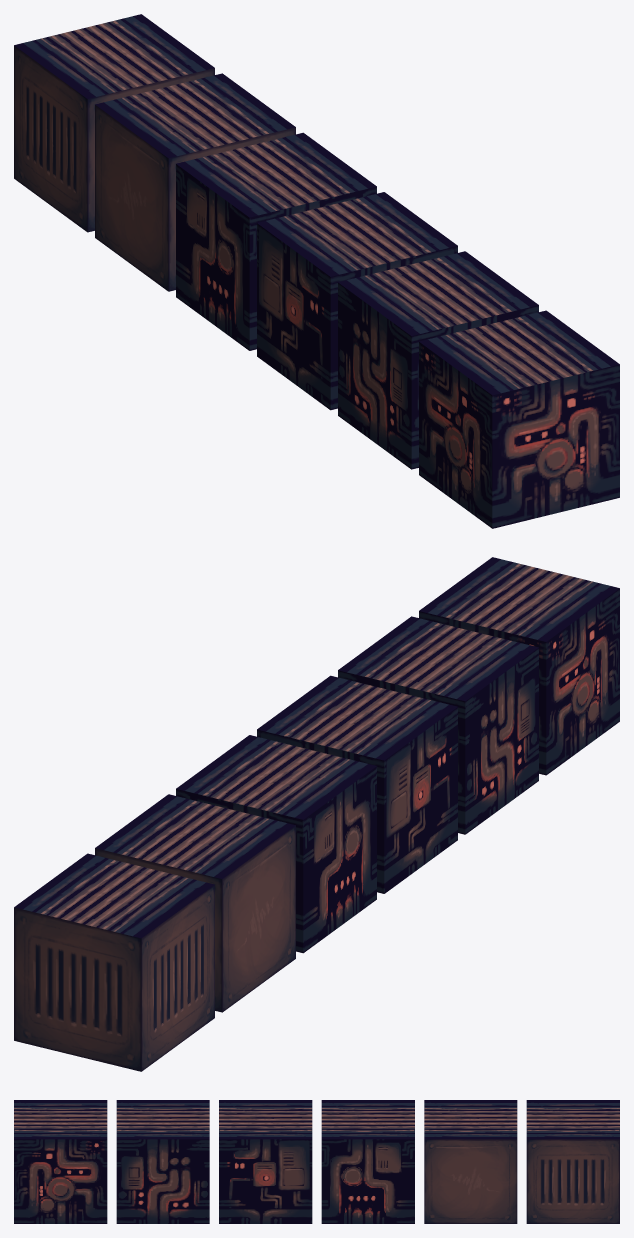
File: DCGJ_2024_Terrain.fbx
The picture shows the model from 3 angles, top to bottom: view 1: azimuth 30°, elevation 25°; view 2: azimuth 150°, elevation 25°; view 3: azimuth 270°, elevation 25°; orthographic projection. The views are drawn at different scales.
Visible parts, largest first — view 1: WireCube1, WireCube2, PanelCube, WireCube4, VentCube, WireCube3; view 2: VentCube, PanelCube, WireCube1, WireCube3, WireCube2, WireCube4; view 3: WireCube1, WireCube3, PanelCube, WireCube2, WireCube4, VentCube.
Boxes of the visible parts, box(x1,y1,x2,y2) form: WireCube1: box(419, 310, 619, 528); WireCube2: box(338, 251, 538, 469); PanelCube: box(95, 73, 295, 291); WireCube4: box(176, 132, 376, 350); VentCube: box(14, 14, 214, 232); WireCube3: box(257, 192, 457, 410); VentCube: box(14, 853, 214, 1071); PanelCube: box(95, 794, 295, 1012); WireCube1: box(419, 557, 619, 775); WireCube3: box(257, 675, 457, 893); WireCube2: box(338, 616, 538, 834); WireCube4: box(176, 735, 376, 953); WireCube1: box(14, 1100, 107, 1223); WireCube3: box(219, 1100, 312, 1223); PanelCube: box(424, 1100, 517, 1223); WireCube2: box(116, 1100, 209, 1223); WireCube4: box(321, 1100, 414, 1223); VentCube: box(526, 1100, 619, 1223).
Size of the model in its own units: 100 by 100 by 650.
